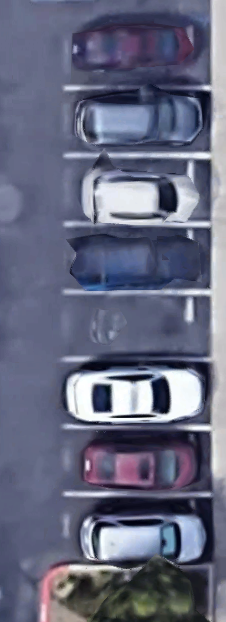Occupied: (62, 494, 208, 566), (63, 17, 210, 87), (64, 155, 209, 224), (63, 87, 209, 155), (63, 224, 209, 292), (63, 360, 208, 427), (62, 428, 208, 494)
Vacant: (63, 292, 209, 360)
